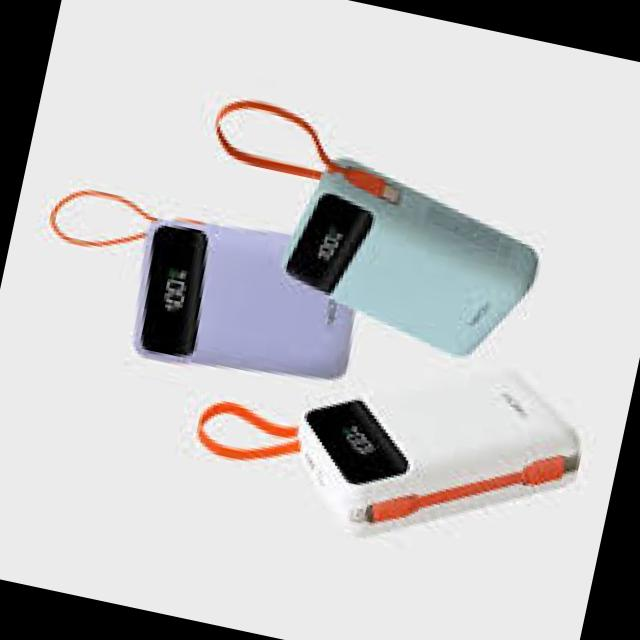portable-charger: (275, 330, 596, 572), (269, 150, 558, 378), (122, 190, 377, 408)
